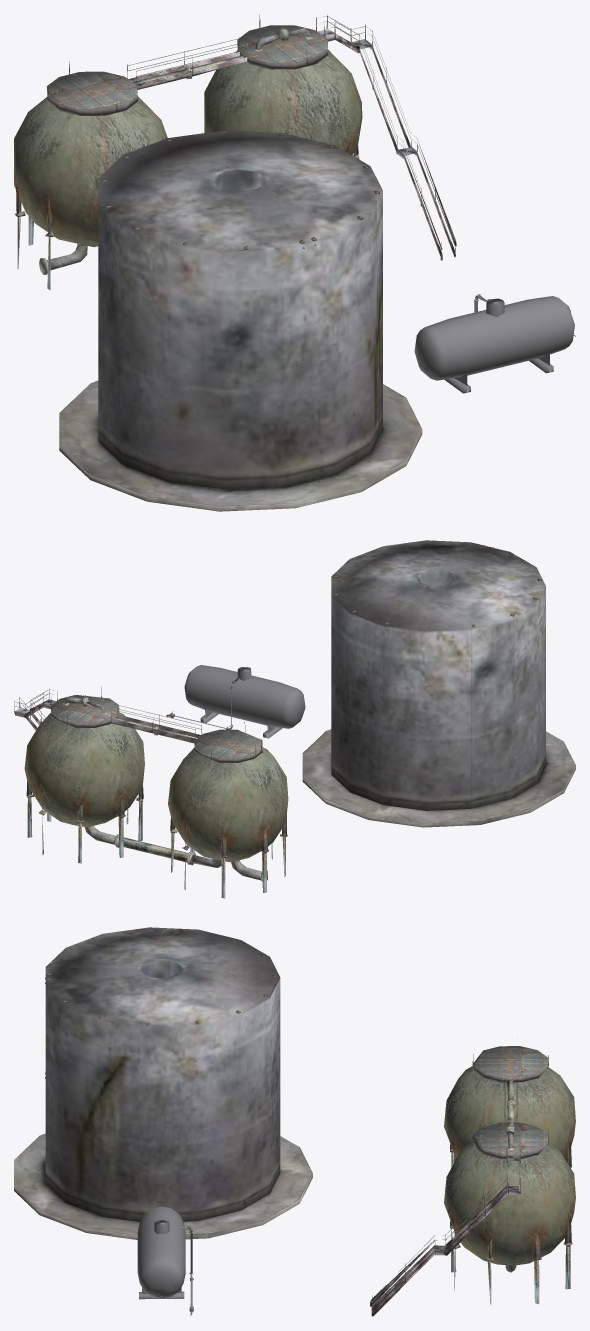
The model's file is ew-tank-farm.lod1.glb.
The picture shows the model from 3 angles, top to bottom: view 1: azimuth 30°, elevation 25°; view 2: azimuth 150°, elevation 25°; view 3: azimuth 270°, elevation 25°; orthographic projection. The views are drawn at different scales.
Visible parts, largest first — view 1: pCylinder2_Large_tank_0, Round_TankA_Legs_Round_Tank_Material_0, Long_Tank:ThickbendA_Long_Tank:Long_TankA_Material_0, PipeBendC_lambert3_0; view 2: pCylinder2_Large_tank_0, Round_TankA_Legs_Round_Tank_Material_0, Long_Tank:ThickbendA_Long_Tank:Long_TankA_Material_0, PipeBendC_lambert3_0; view 3: pCylinder2_Large_tank_0, Round_TankA_Legs_Round_Tank_Material_0, Long_Tank:ThickbendA_Long_Tank:Long_TankA_Material_0, PipeBendC_lambert3_0.
Part boxes in pixels (bbox=[...]): pCylinder2_Large_tank_0: bbox=[59, 130, 422, 511]; Round_TankA_Legs_Round_Tank_Material_0: bbox=[14, 25, 362, 290]; Long_Tank:ThickbendA_Long_Tank:Long_TankA_Material_0: bbox=[414, 294, 575, 393]; PipeBendC_lambert3_0: bbox=[39, 14, 456, 274]; pCylinder2_Large_tank_0: bbox=[302, 540, 575, 827]; Round_TankA_Legs_Round_Tank_Material_0: bbox=[24, 695, 288, 898]; Long_Tank:ThickbendA_Long_Tank:Long_TankA_Material_0: bbox=[166, 665, 305, 738]; PipeBendC_lambert3_0: bbox=[14, 686, 267, 881]; pCylinder2_Large_tank_0: bbox=[14, 927, 312, 1239]; Round_TankA_Legs_Round_Tank_Material_0: bbox=[444, 1046, 575, 1305]; Long_Tank:ThickbendA_Long_Tank:Long_TankA_Material_0: bbox=[137, 1206, 193, 1315]; PipeBendC_lambert3_0: bbox=[370, 1053, 548, 1316].
Bounding box in the file's own units: 25.49 × 12.35 × 29.95.
Materials: 4 (3 with a texture image).
